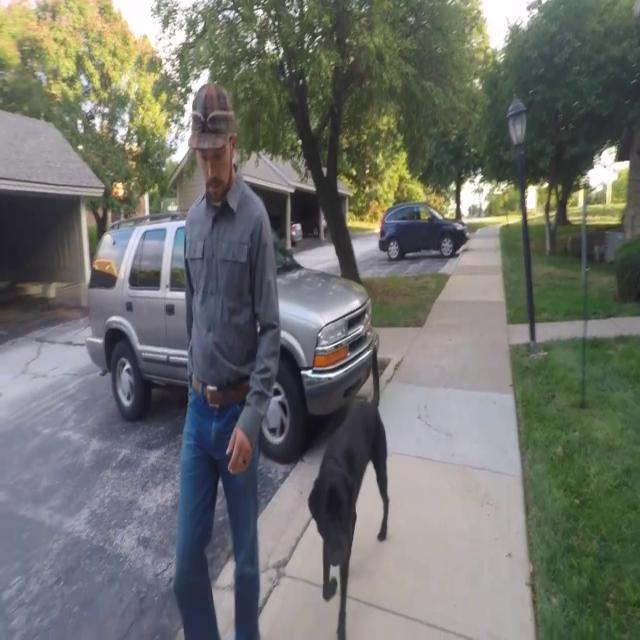Unleashed_Dog: (226, 344, 390, 640)
